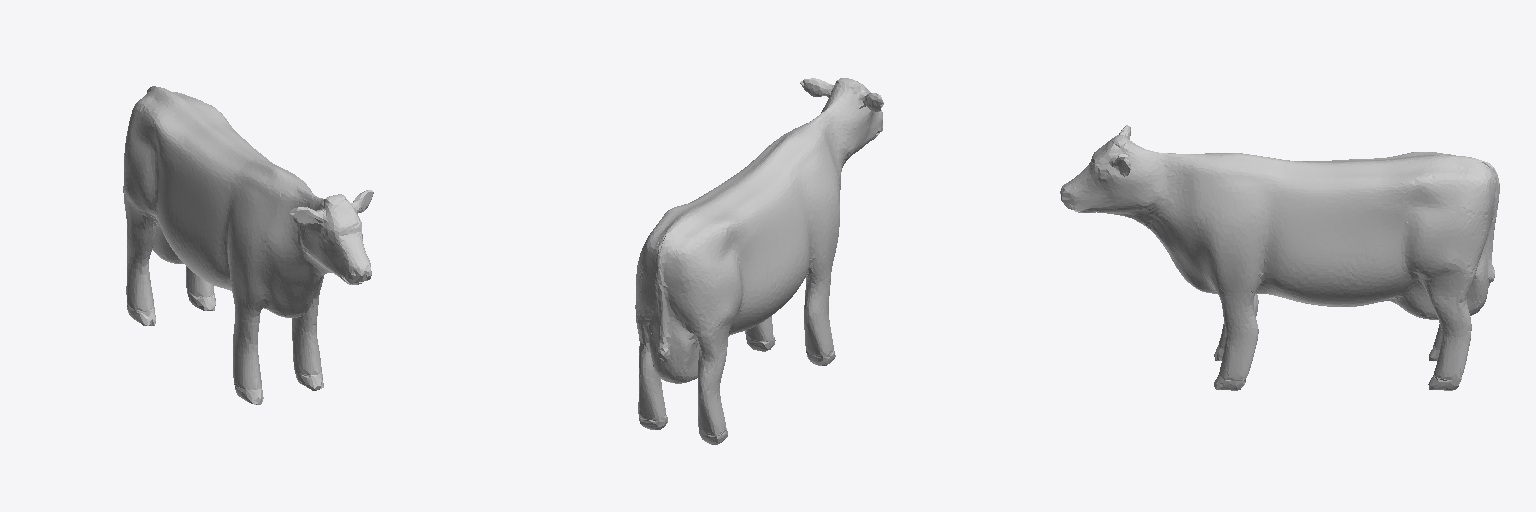
Rendered from Cowv1.obj.
3 views of the same model, side by side, from view 1: azimuth 30°, elevation 25°; view 2: azimuth 150°, elevation 25°; view 3: azimuth 270°, elevation 25° (orthographic).
Visible parts, largest first — view 1: Cow:cow; view 2: Cow:cow; view 3: Cow:cow.
Part boxes in pixels (left/top/right/bottom): Cow:cow: left=123, top=86, right=373, bottom=404; Cow:cow: left=635, top=78, right=883, bottom=444; Cow:cow: left=1060, top=125, right=1499, bottom=390.
Size of the model in its own units: 0.4604 by 1.17 by 1.96.